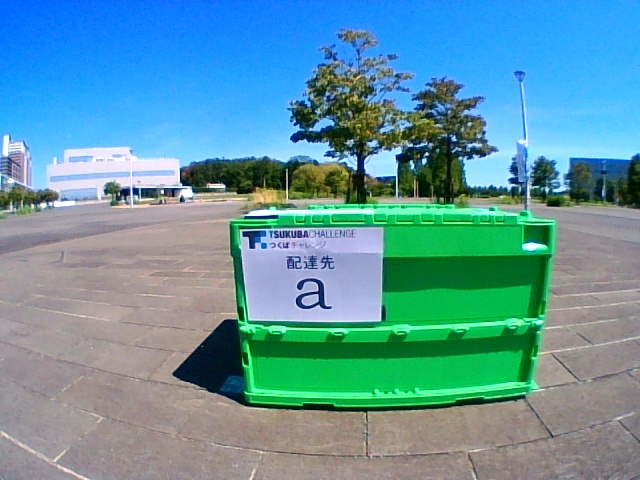green_box: (230, 203, 555, 408)
tag_a: (248, 230, 381, 321)
